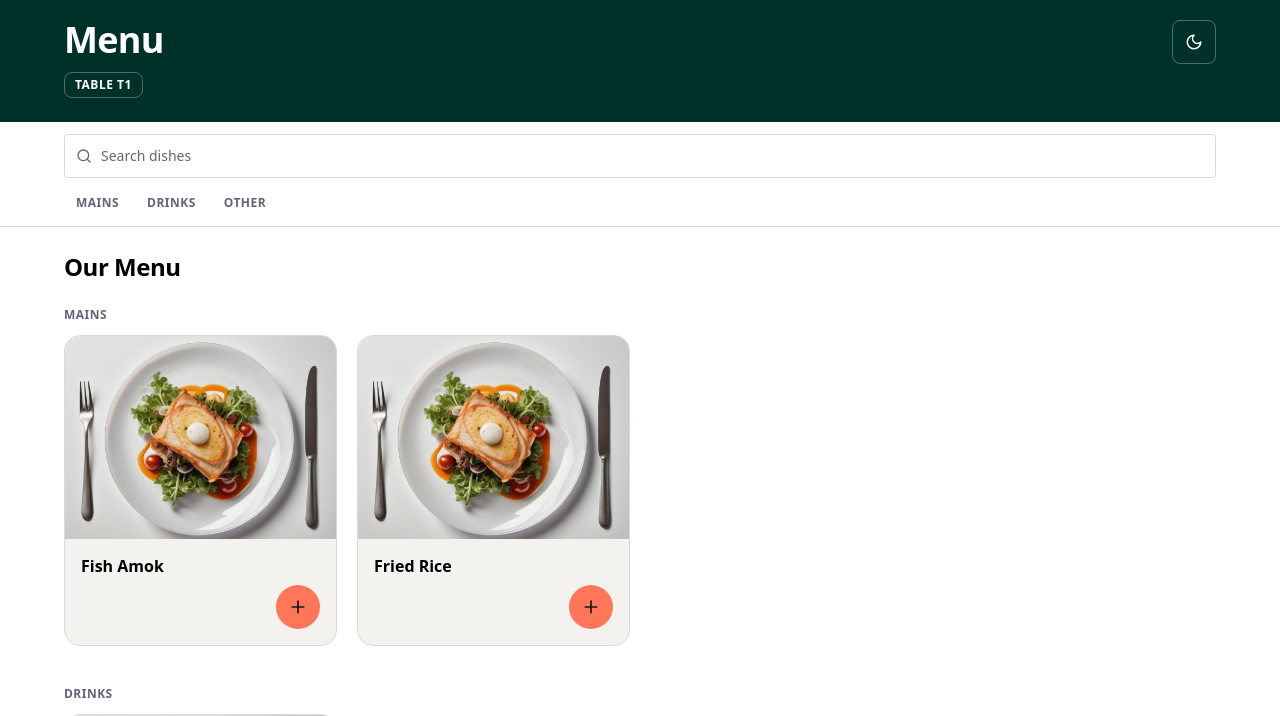
it: customer menu categories › tapping a tab scrolls to that section
The width and height of the screenshot is (1280, 716).
Click the button "Drinks": (171, 204) [135,182,208,226]
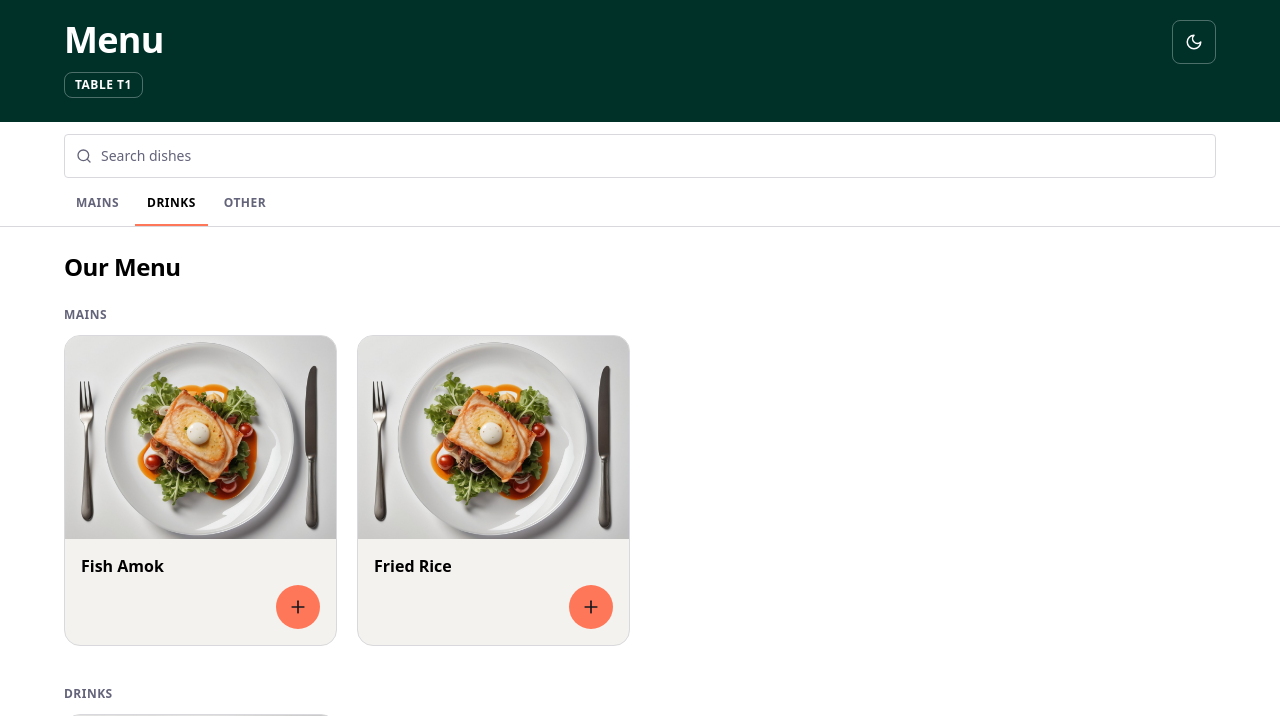
Now the button "Drinks" is marked as current, box [135,182,208,226]
